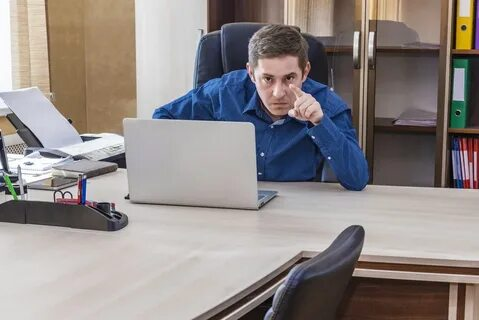awake: (203, 21, 370, 182)
